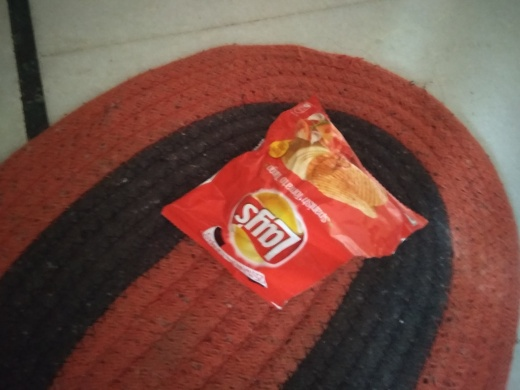lays: (153, 89, 432, 308)
